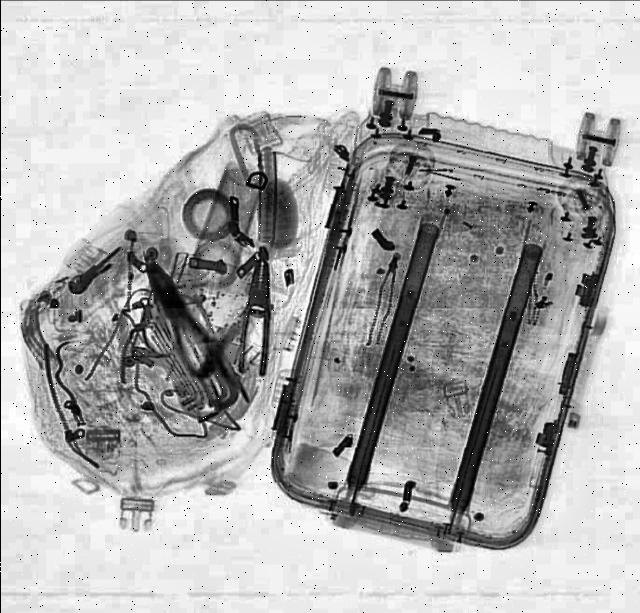Pliers: (125, 248, 242, 406), (236, 258, 274, 376)
